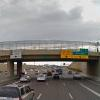Bridge: (1, 34, 97, 74)
